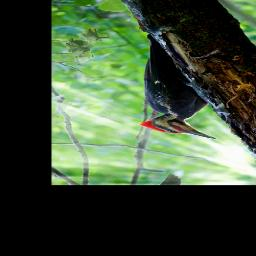Woodpecker: (138, 33, 219, 140)
